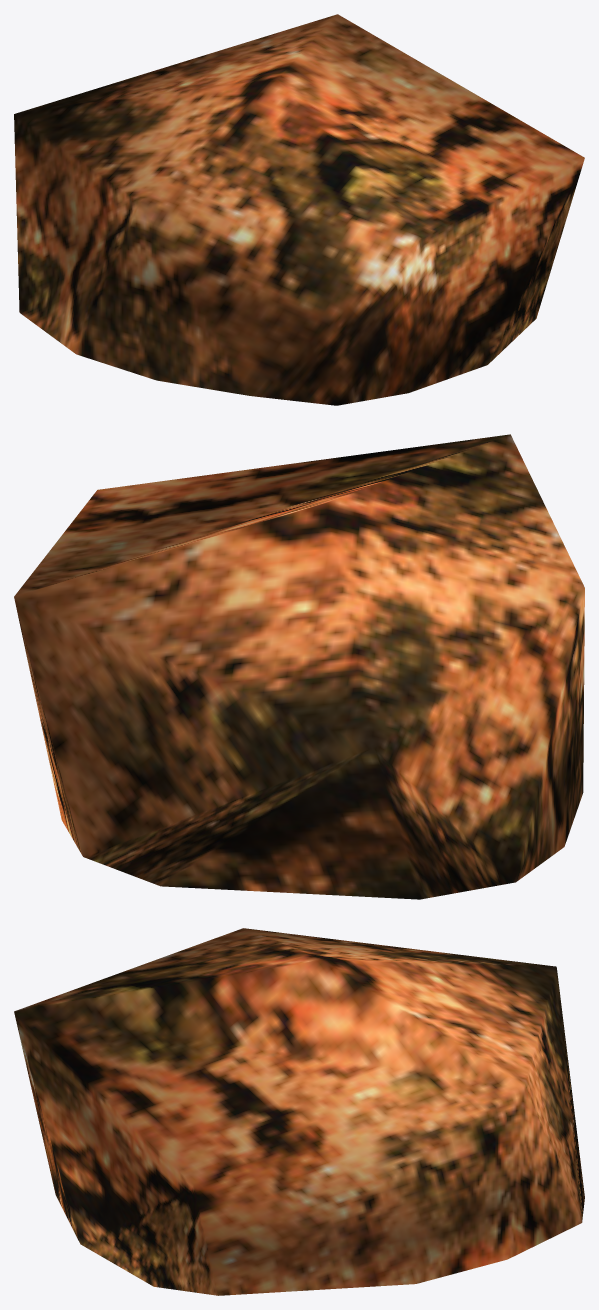
The model's file is stone3_tex3.fbx.
3 renders of one model, top to bottom at view 1: azimuth 30°, elevation 25°; view 2: azimuth 150°, elevation 25°; view 3: azimuth 270°, elevation 25°, orthographic. The views are drawn at different scales.
Visible parts, largest first — view 1: stone3_tex3Object; view 2: stone3_tex3Object; view 3: stone3_tex3Object.
Boxes of the visible parts, x1,y1,x2,y2 form: stone3_tex3Object: (14, 14, 584, 405); stone3_tex3Object: (14, 434, 584, 899); stone3_tex3Object: (14, 928, 584, 1295).
Bounding box in the file's own units: 0.823 × 0.3973 × 0.8573.
Materials: 1 (1 with a texture image).
